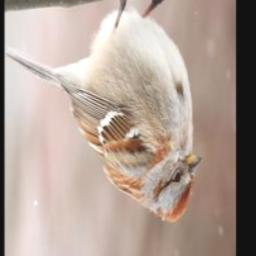Sparrow: (5, 0, 201, 223)
